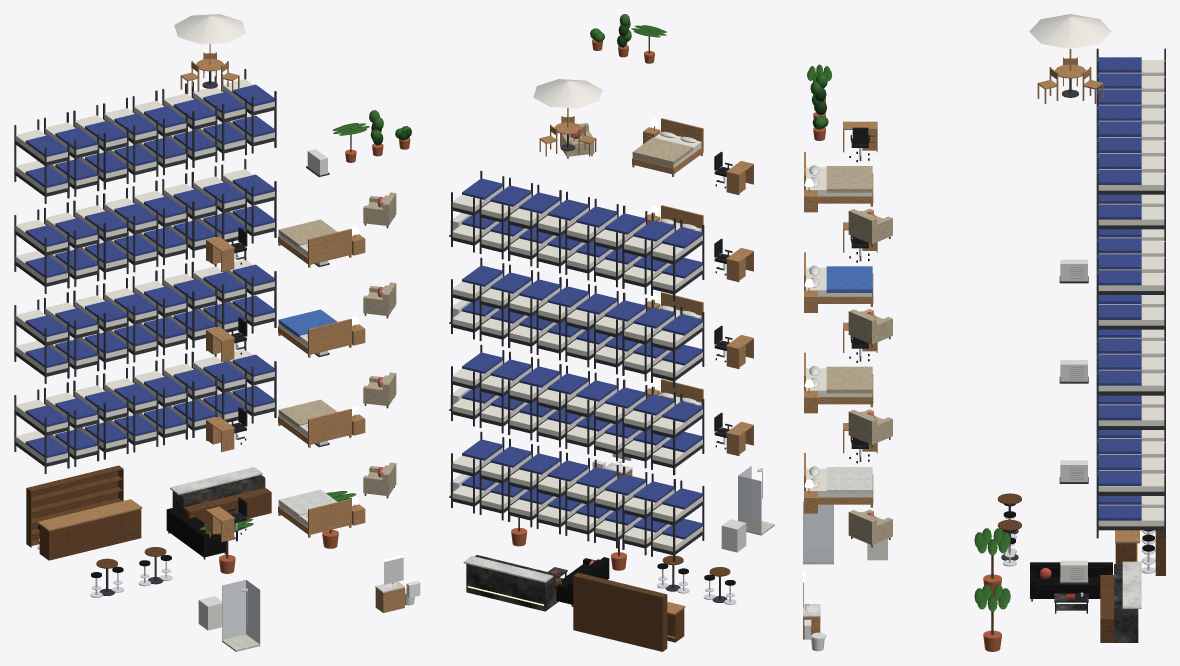
File: i_backpacker_hostel.gltf
3 views of the same model, side by side, from view 1: azimuth 30°, elevation 25°; view 2: azimuth 150°, elevation 25°; view 3: azimuth 270°, elevation 25° (orthographic). The views are drawn at different scales.
Parts seen in each view (by area): view 1: I_backpacker_hostel; view 2: I_backpacker_hostel; view 3: I_backpacker_hostel.
Boxes of the visible parts, left/top/right/bottom form: I_backpacker_hostel: left=14, top=14, right=420, bottom=651; I_backpacker_hostel: left=449, top=14, right=774, bottom=651; I_backpacker_hostel: left=803, top=14, right=1165, bottom=651.
Bounding box in the file's own units: 9.96 × 18.65 × 10.49.
Materials: 31 (11 with a texture image).
